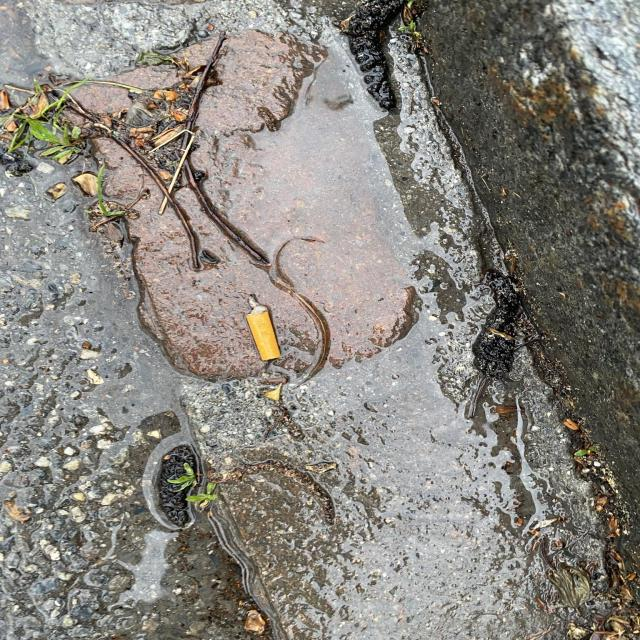other waste: (245, 293, 282, 361)
